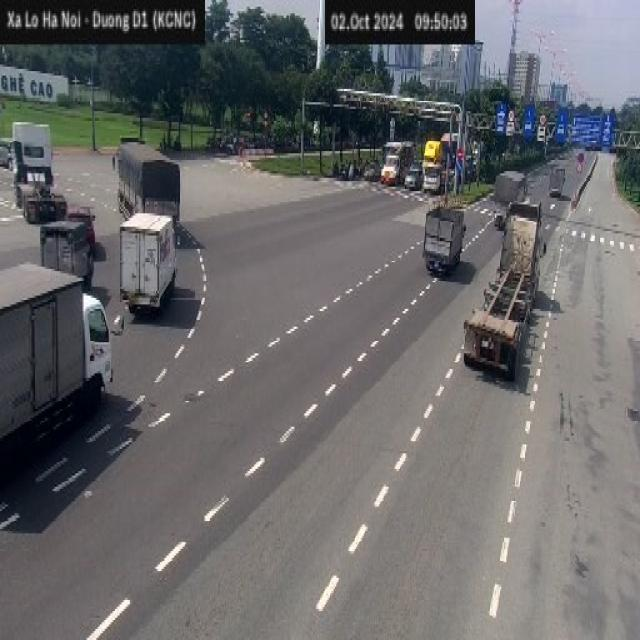container-truck: (462, 196, 550, 385)
truck: (0, 260, 114, 451), (112, 128, 184, 225), (119, 211, 178, 313), (422, 204, 467, 276)
